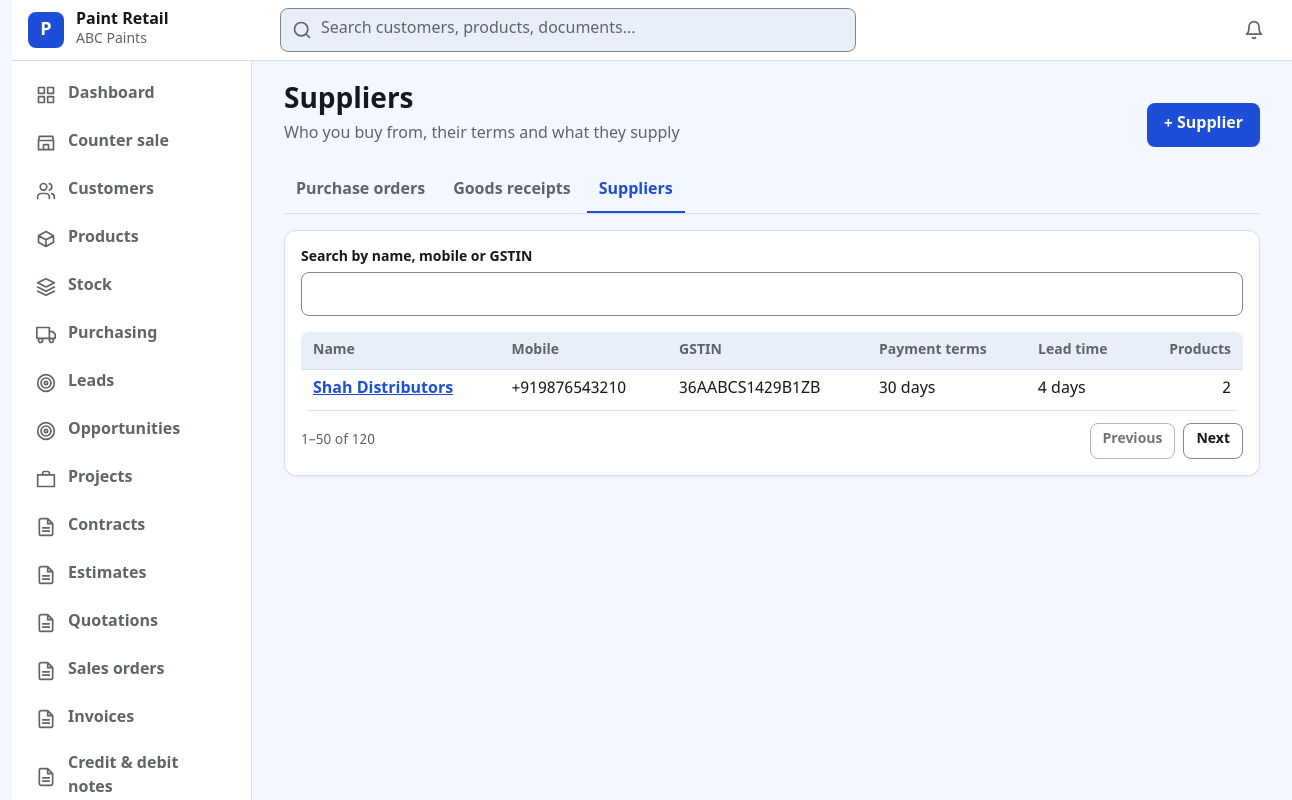
Scenario: SuppliersPage › pages through many suppliers
Expected: the text "1–50 of 120" is shown, [301,430,375,451]
Click the button "Next".
click(1213, 441)  # box [1184,423,1243,459]
(page scrolled)
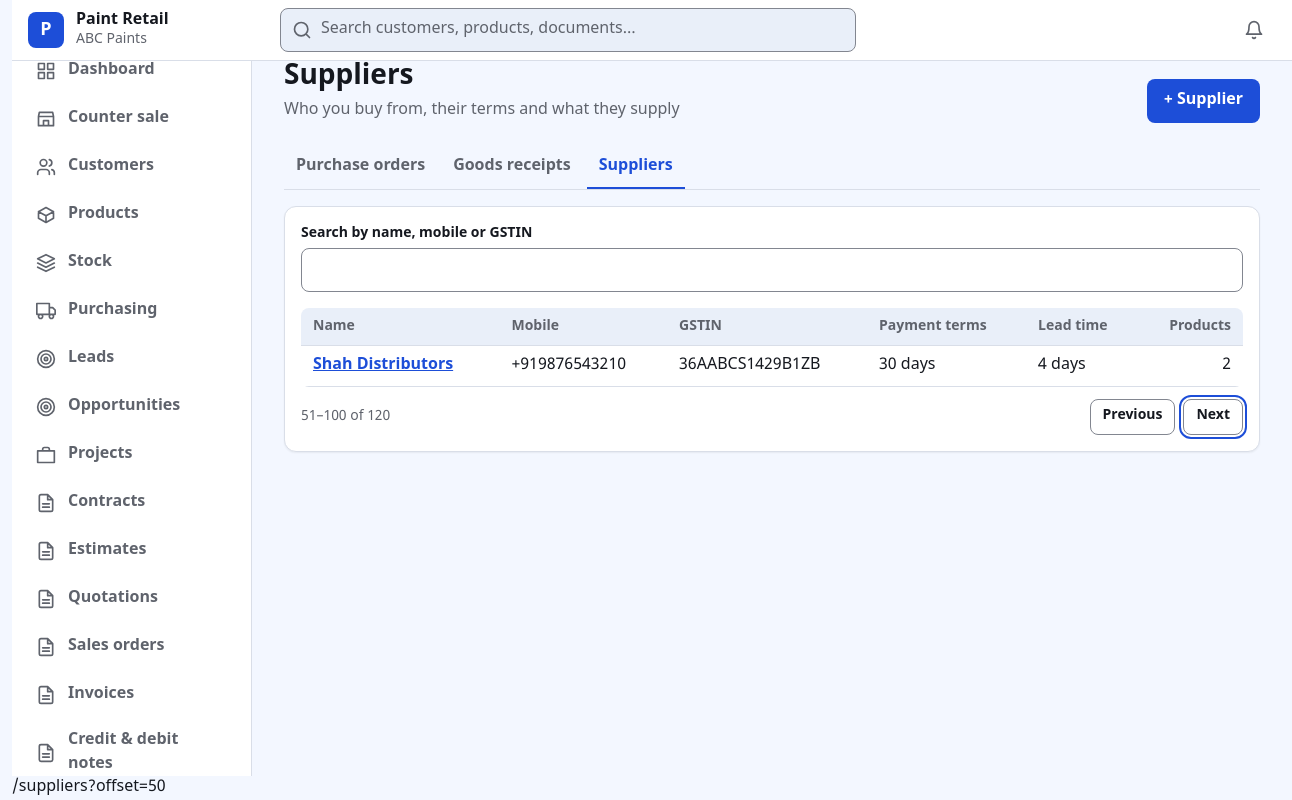
Now the text with test id "location" reads "/suppliers?offset=50", box [12,777,166,798]
